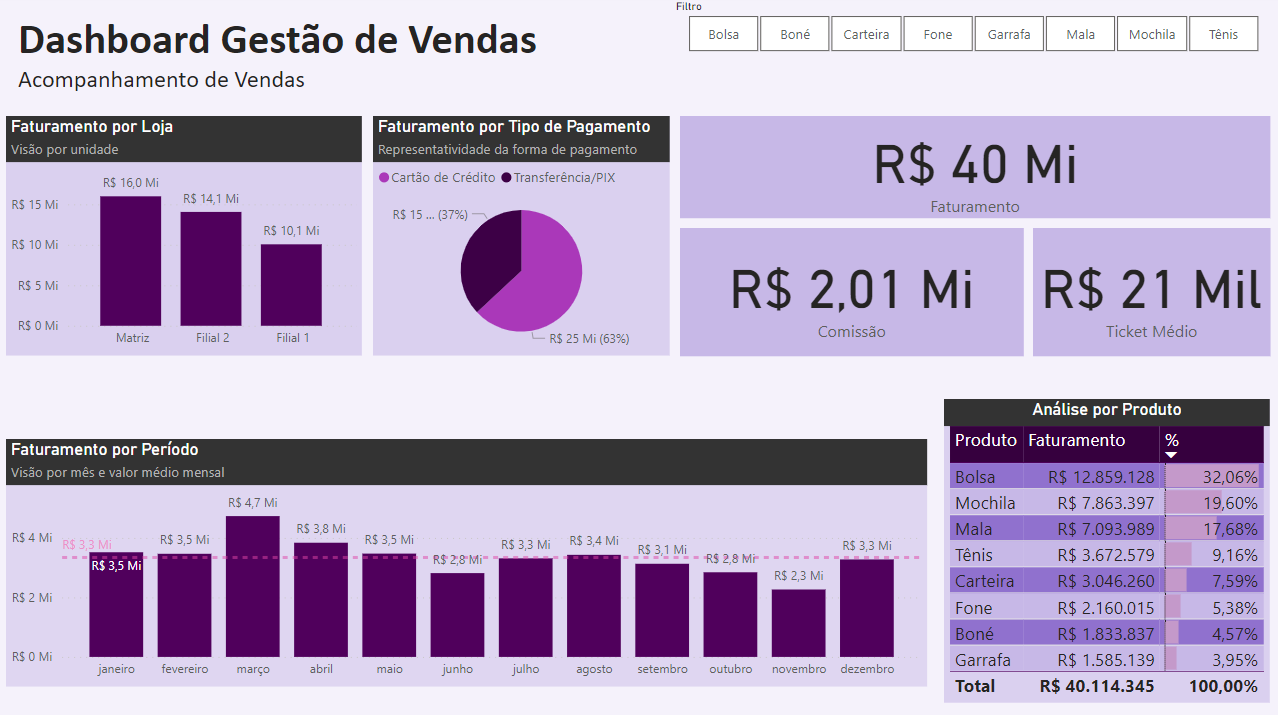

The dashboard page shown, as its layout file describes it:
{"tool":"powerbi","page":{"name":"Dashboard","canvas":[1280,720],"ordinal":0},"visuals":[{"type":"clusteredColumnChart","title":"Faturamento por Período","fields":{"Category":["registroVendas.Data Pedido.Variation.Hierarquia de datas.Mês"],"Y":["Sum(registroVendas.Valor Venda)"]},"box":[7,442.5,918.8,247.4],"z":2000},{"type":"pieChart","title":"Faturamento por Tipo de Pagamento","fields":{"Y":["Sum(registroVendas.Valor Venda)"],"Category":["registroVendas.Pagamento"]},"box":[372.8,120.8,296.2,239.3],"z":3000},{"type":"clusteredColumnChart","title":"Faturamento por Loja","fields":{"Y":["Sum(registroVendas.Valor Venda)"],"Category":["lojas.nome_loja"]},"box":[7,120.8,355.4,239.3],"z":4000},{"type":"tableEx","title":"Análise por Produto","fields":{"Values":["registroVendas.Produto","Sum(registroVendas.Valor Venda)","Divide(Sum(registroVendas.Valor Venda), ScopedEval(Sum(registroVendas.Valor Venda), []))"]},"box":[943.2,403,325.2,303.2],"z":5000},{"type":"slicer","fields":{"Values":["registroVendas.Produto"]},"box":[662.1,0,617.9,62.7],"z":6000},{"type":"textbox","box":[13.9,11.6,609.8,120.8],"z":7000},{"type":"card","fields":{"Values":["registroVendas.Comissao"]},"box":[679.5,232.3,342.6,127.8],"z":7001},{"type":"card","fields":{"Values":["Sum(registroVendas.Valor Venda)"]},"box":[679.5,120.8,588.9,102.2],"z":7002},{"type":"card","fields":{"Values":["Avg(registroVendas.Valor Venda)"]},"box":[1031.4,232.3,237,127.8],"z":7003}]}

Visuals, with their boxes in screenshot pixels (x1, y1, x2, y2), scaled from the page's 1280x720 canvas onto the 1278x715 screenshot:
"Faturamento por Período" clusteredColumnChart: x1=7, y1=439, x2=924, y2=685
"Faturamento por Tipo de Pagamento" pieChart: x1=372, y1=120, x2=668, y2=358
"Faturamento por Loja" clusteredColumnChart: x1=7, y1=120, x2=362, y2=358
"Análise por Produto" tableEx: x1=942, y1=400, x2=1266, y2=701
slicer - registroVendas.Produto: x1=661, y1=0, x2=1277, y2=62
textbox: x1=14, y1=12, x2=623, y2=131
card - registroVendas.Comissao: x1=678, y1=231, x2=1021, y2=358
card - Sum(registroVendas.Valor Venda): x1=678, y1=120, x2=1266, y2=221
card - Avg(registroVendas.Valor Venda): x1=1030, y1=231, x2=1266, y2=358
